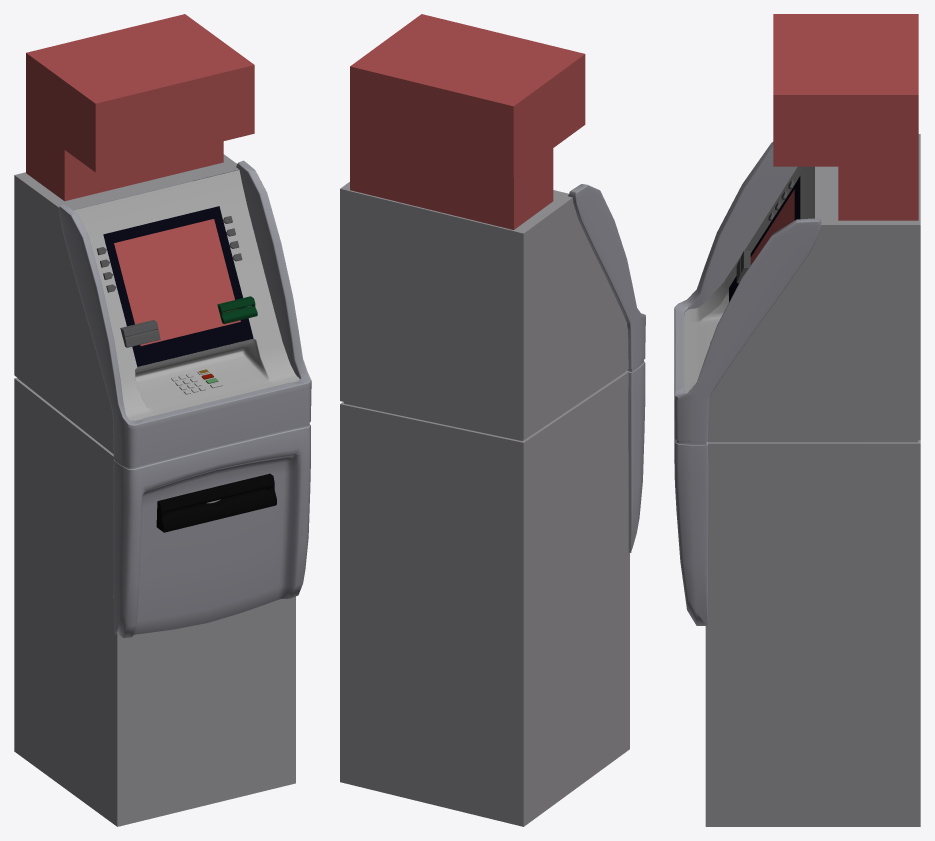
The model's file is ATM.fbx.
3 views of the same model, side by side, from view 1: azimuth 30°, elevation 25°; view 2: azimuth 150°, elevation 25°; view 3: azimuth 270°, elevation 25° (orthographic). The views are drawn at different scales.
Parts seen in each view (by area): view 1: ATM1, pCube108, pCube107; view 2: ATM1, pCube108, pCube107; view 3: ATM1, pCube108, pCube107.
Part boxes in pixels (left/top/right/bottom): ATM1: left=14, top=154, right=311, bottom=826; pCube108: left=26, top=14, right=254, bottom=172; pCube107: left=26, top=105, right=223, bottom=201; ATM1: left=340, top=182, right=645, bottom=826; pCube108: left=350, top=14, right=585, bottom=176; pCube107: left=350, top=131, right=553, bottom=229; ATM1: left=674, top=134, right=920, bottom=826; pCube108: left=773, top=14, right=918, bottom=166; pCube107: left=838, top=149, right=918, bottom=220.
Size of the model in its own units: 20.04 by 71.81 by 22.06.
